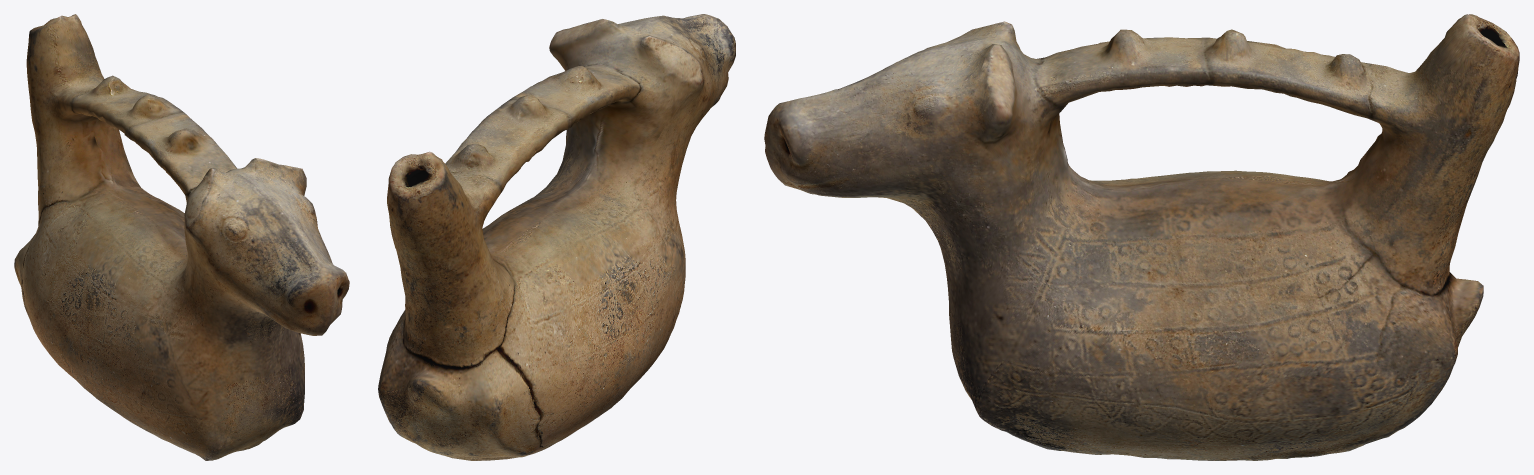
Rendered from bien05.FBX.
3 views of the same model, side by side, from view 1: azimuth 30°, elevation 25°; view 2: azimuth 150°, elevation 25°; view 3: azimuth 270°, elevation 25° (orthographic). The views are drawn at different scales.
Parts seen in each view (by area): view 1: default; view 2: default; view 3: default.
Boxes of the visible parts, box(x1,y1,x2,y2) form: default: box(14, 14, 349, 460); default: box(378, 14, 735, 460); default: box(764, 14, 1519, 460).
Bounding box in the file's own units: 21.28 × 36.89 × 59.25.
